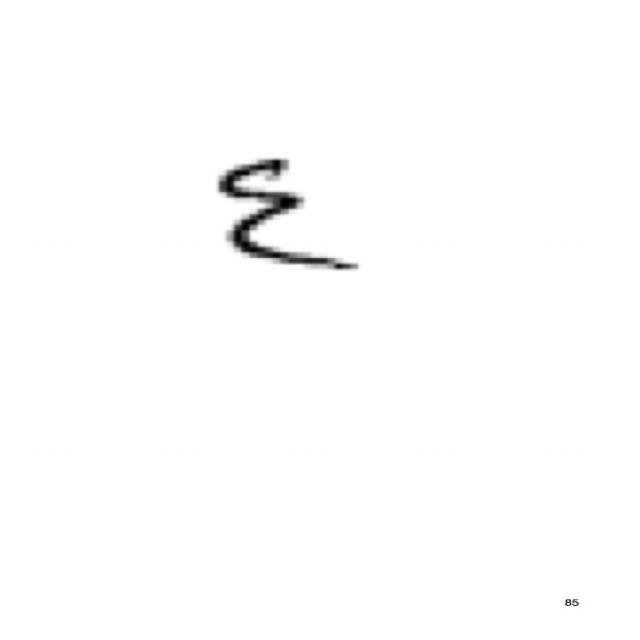4 -four-: (207, 145, 380, 281)
